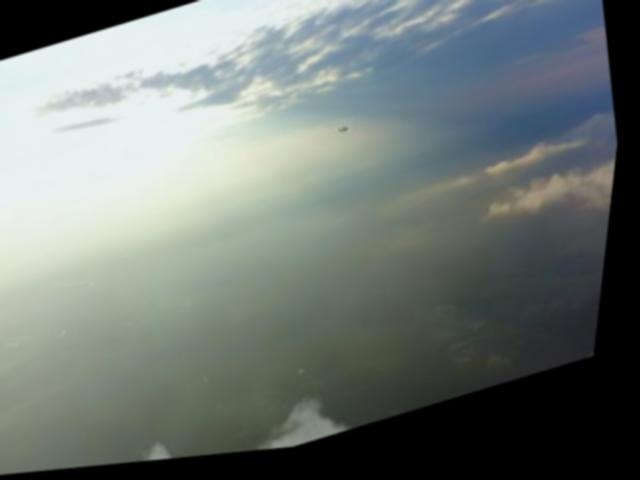uav: (339, 128, 356, 142)
